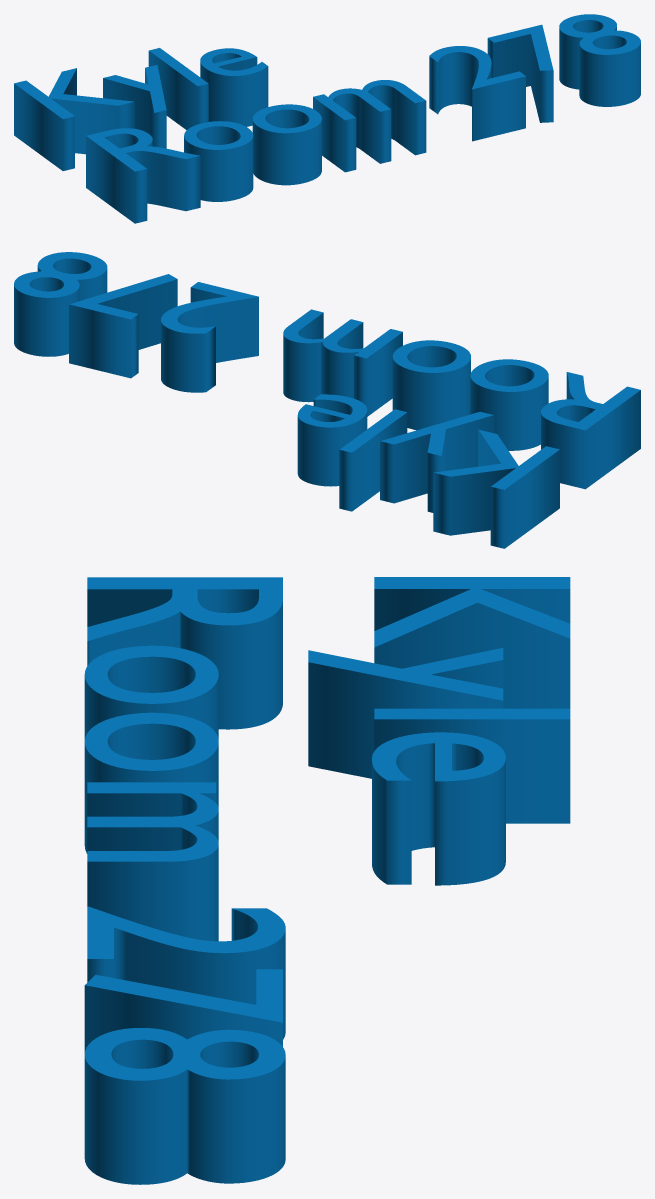
File: kyle-278.gltf
The picture shows the model from 3 angles, top to bottom: view 1: azimuth 30°, elevation 25°; view 2: azimuth 150°, elevation 25°; view 3: azimuth 270°, elevation 25°; orthographic projection. The views are drawn at different scales.
Parts seen in each view (by area): view 1: Text; view 2: Text; view 3: Text.
Boxes of the visible parts, x1=… form: Text: x1=14, y1=14, x2=640, y2=223; Text: x1=14, y1=252, x2=640, y2=548; Text: x1=84, y1=577, x2=570, y2=1184.
Size of the model in its own units: 4.15 by 0.4 by 1.69.
